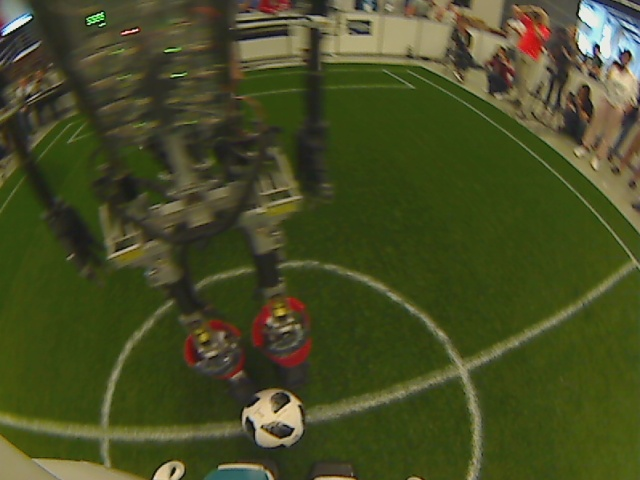ball: (241, 388, 308, 452)
